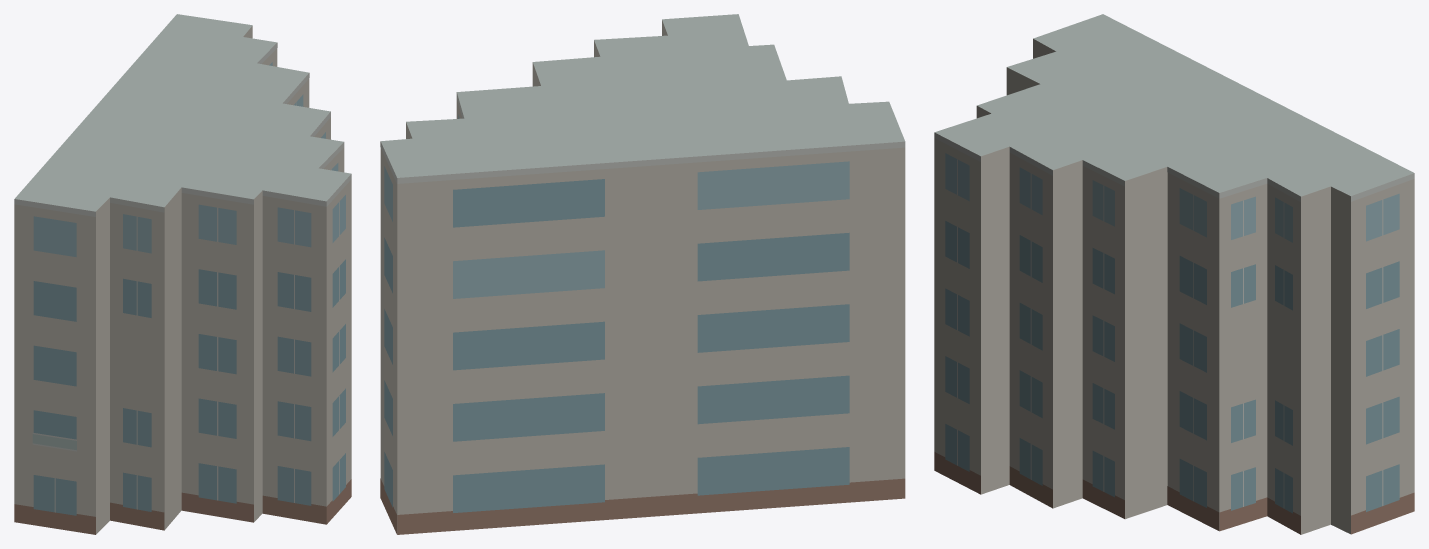
The model's file is survey-upis-32583165.glb.
3 views of the same model, side by side, from view 1: azimuth 30°, elevation 25°; view 2: azimuth 150°, elevation 25°; view 3: azimuth 270°, elevation 25° (orthographic). The views are drawn at different scales.
Visible parts, largest first — view 1: survey-upis-32583165.tmp; view 2: survey-upis-32583165.tmp; view 3: survey-upis-32583165.tmp.
Part boxes in pixels (x1,y1,x2,y2): survey-upis-32583165.tmp: (14, 14, 351, 534); survey-upis-32583165.tmp: (380, 14, 905, 534); survey-upis-32583165.tmp: (934, 14, 1414, 534).
Size of the model in its own units: 16.8 by 14.5 by 18.67.
